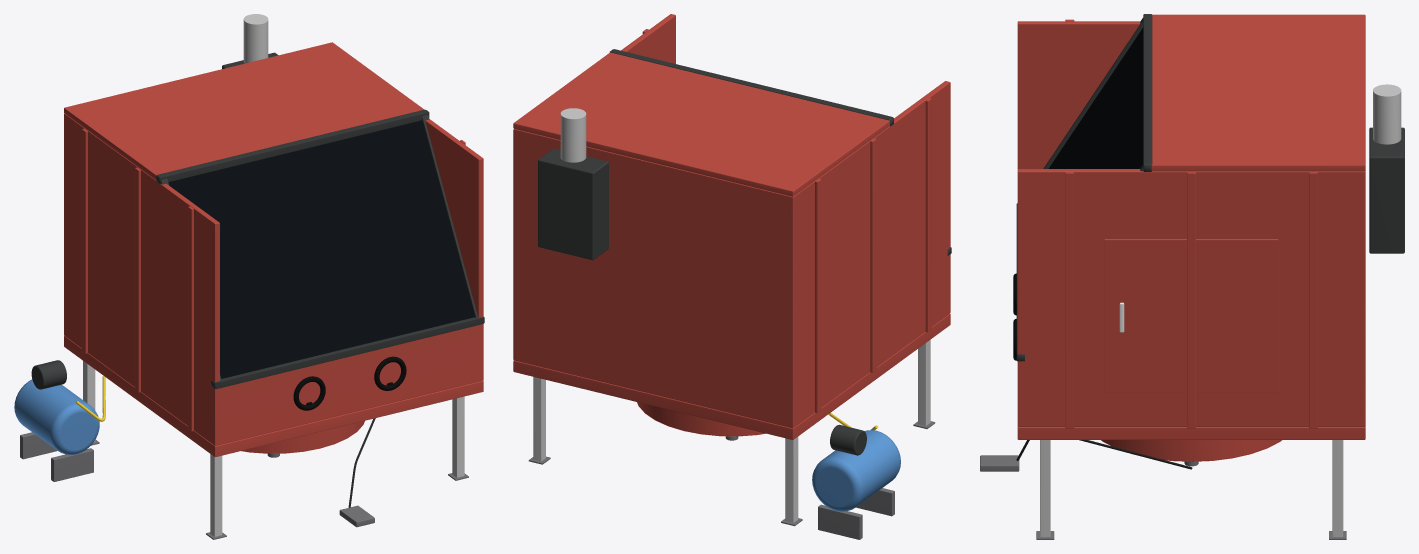
The model's file is industrial.workshop.blaster_pro.glb.
The picture shows the model from 3 angles, left to right: view 1: azimuth 30°, elevation 25°; view 2: azimuth 150°, elevation 25°; view 3: azimuth 270°, elevation 25°; orthographic projection. The views are drawn at different scales.
Parts seen in each view (by area): view 1: main__paint_c44, main__glass_dark, main__paint_333, main__paint_59c, main__galv_ccc, main__galv_777, main__rubber; view 2: main__paint_c44, main__paint_333, main__galv_ccc, main__paint_59c, main__galv_777; view 3: main__paint_c44, main__paint_333, main__glass_dark, main__galv_ccc, main__galv_777.
Part boxes in pixels (x1,y1,x2,y2): main__paint_c44: [64, 42, 483, 456]; main__glass_dark: [168, 120, 474, 378]; main__paint_333: [31, 52, 484, 389]; main__paint_59c: [14, 379, 99, 454]; main__galv_ccc: [83, 14, 464, 536]; main__galv_777: [20, 432, 468, 539]; main__rubber: [293, 356, 406, 410]; main__paint_c44: [513, 14, 950, 439]; main__paint_333: [538, 49, 951, 455]; main__galv_ccc: [533, 108, 930, 522]; main__paint_59c: [812, 430, 900, 511]; main__galv_777: [528, 421, 935, 539]; main__paint_c44: [1017, 14, 1365, 461]; main__paint_333: [1016, 14, 1404, 361]; main__glass_dark: [1048, 27, 1143, 168]; main__galv_ccc: [1040, 84, 1401, 536]; main__galv_777: [980, 455, 1346, 539].
Bounding box in the file's own units: 2.47 × 2.57 × 2.38.
